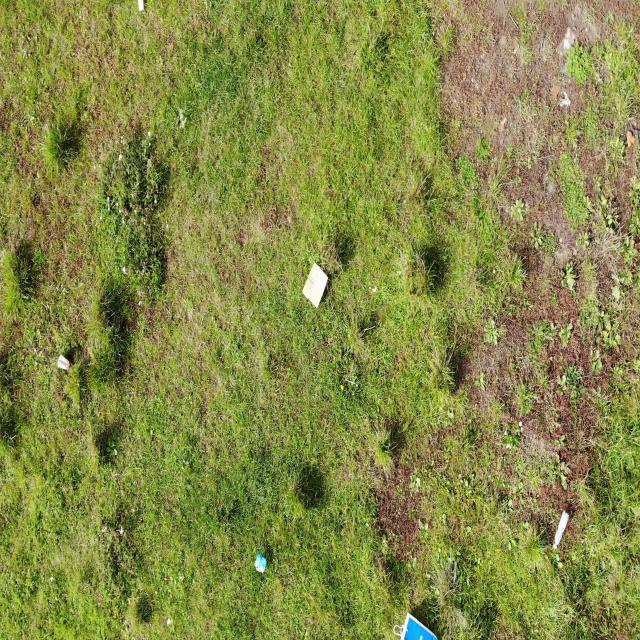rubbish: (301, 261, 330, 311), (401, 612, 439, 640), (552, 509, 572, 553), (253, 553, 267, 576), (57, 354, 71, 374), (138, 0, 144, 13)
